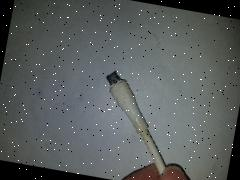electronic: (43, 0, 173, 130)
